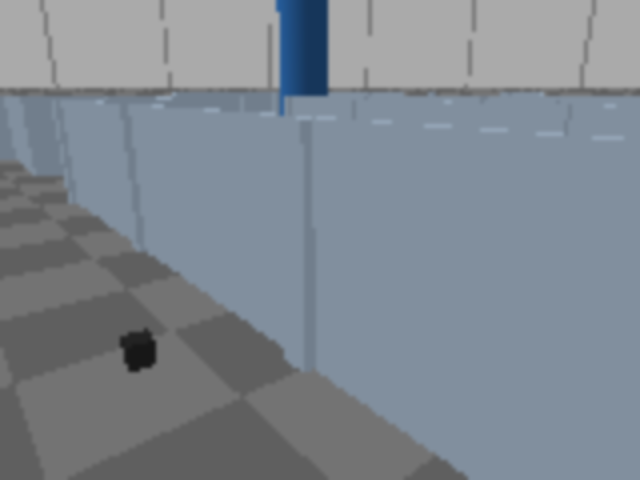puck: (120, 329, 158, 373)
